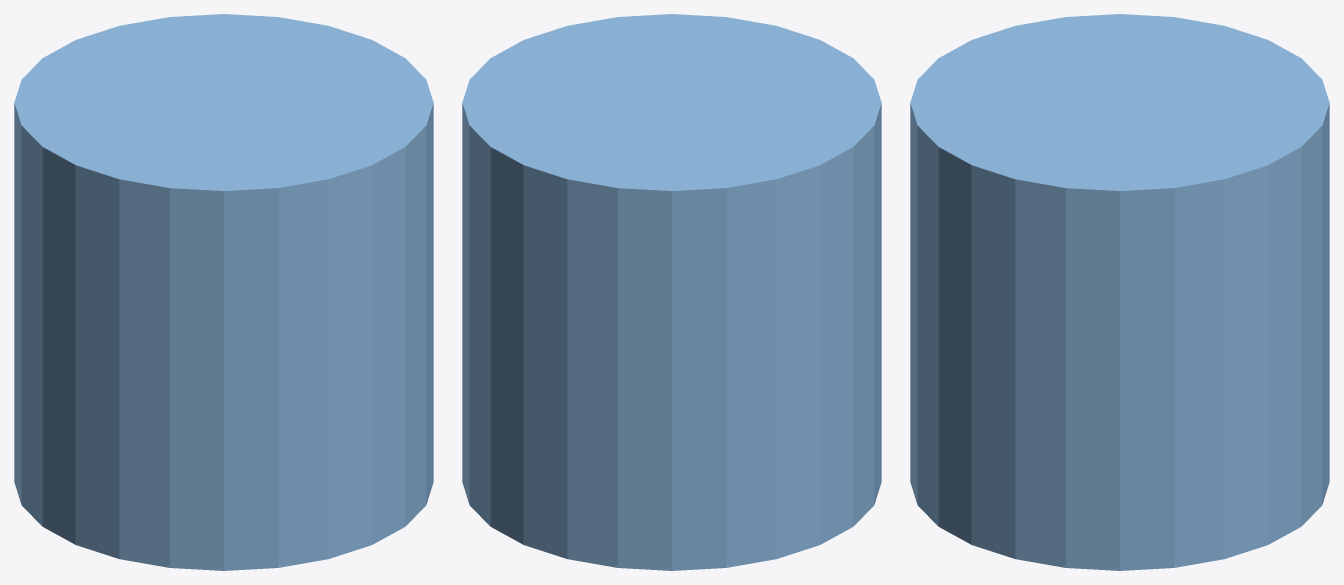
Rendered from pond.glb.
The picture shows the model from 3 angles, left to right: view 1: azimuth 30°, elevation 25°; view 2: azimuth 150°, elevation 25°; view 3: azimuth 270°, elevation 25°; orthographic projection.
Parts seen in each view (by area): view 1: pond; view 2: pond; view 3: pond.
Part boxes in pixels (bbox=[...]): pond: bbox=[14, 14, 433, 570]; pond: bbox=[462, 14, 881, 570]; pond: bbox=[910, 14, 1329, 570].
Size of the model in its own units: 1 by 1 by 1.
